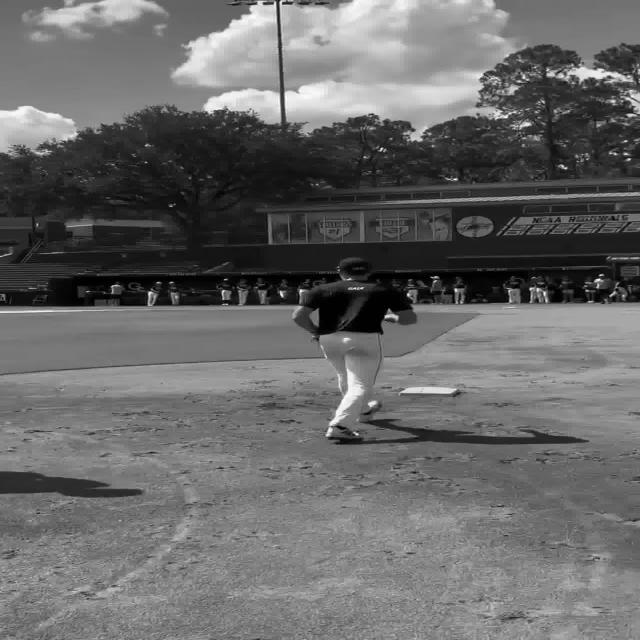base: (400, 386, 460, 396)
shoe: (327, 425, 362, 442), (360, 400, 382, 422)
